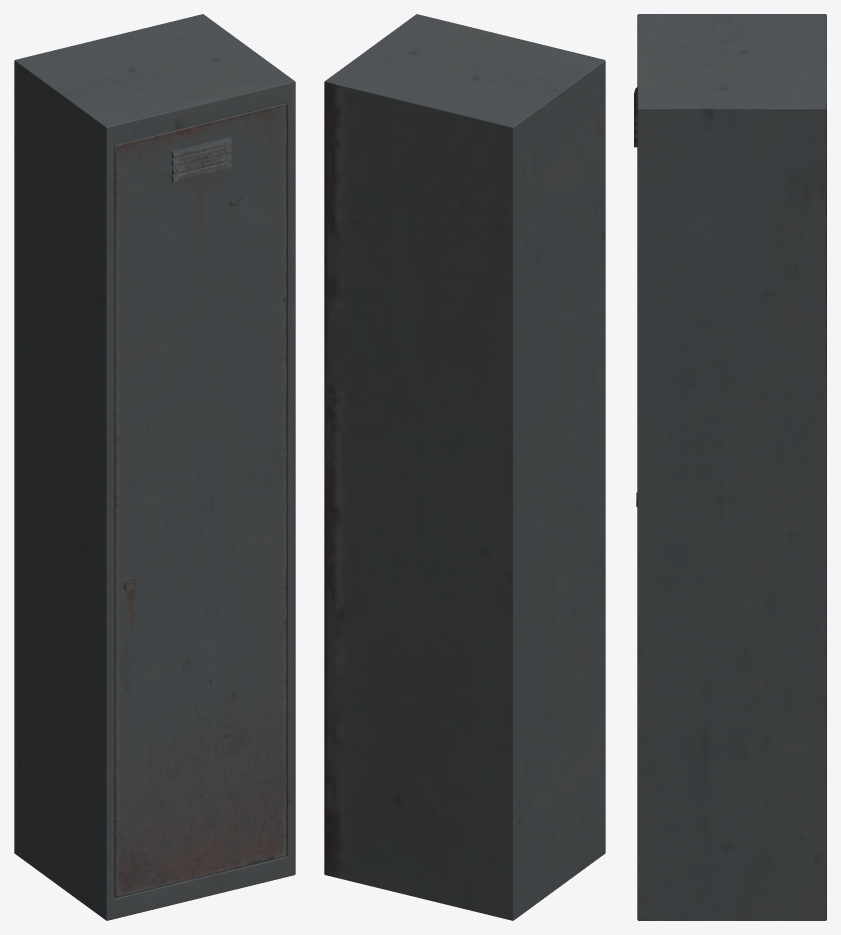
File: Metal Locker2.fbx
The picture shows the model from 3 angles, left to right: view 1: azimuth 30°, elevation 25°; view 2: azimuth 150°, elevation 25°; view 3: azimuth 270°, elevation 25°; orthographic projection. The views are drawn at different scales.
Parts seen in each view (by area): view 1: Metal Locker.001, Metal Locker; view 2: Metal Locker; view 3: Metal Locker.
Part boxes in pixels (bbox=[...]): Metal Locker.001: bbox=[114, 103, 286, 898]; Metal Locker: bbox=[14, 14, 295, 920]; Metal Locker: bbox=[324, 14, 605, 920]; Metal Locker: bbox=[637, 14, 826, 920].
Bounding box in the file's own units: 20.39 × 81.57 × 17.52.
